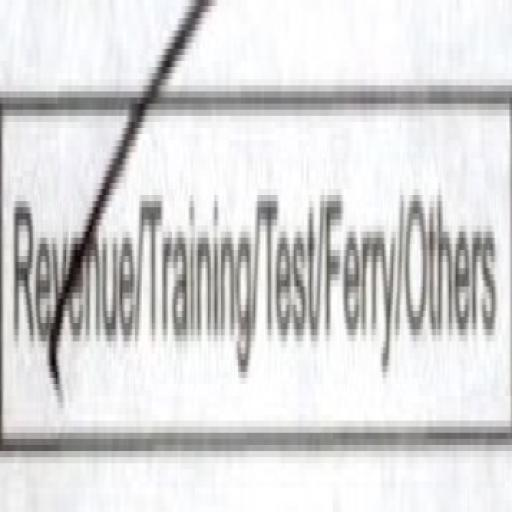check: (7, 62, 141, 498)
